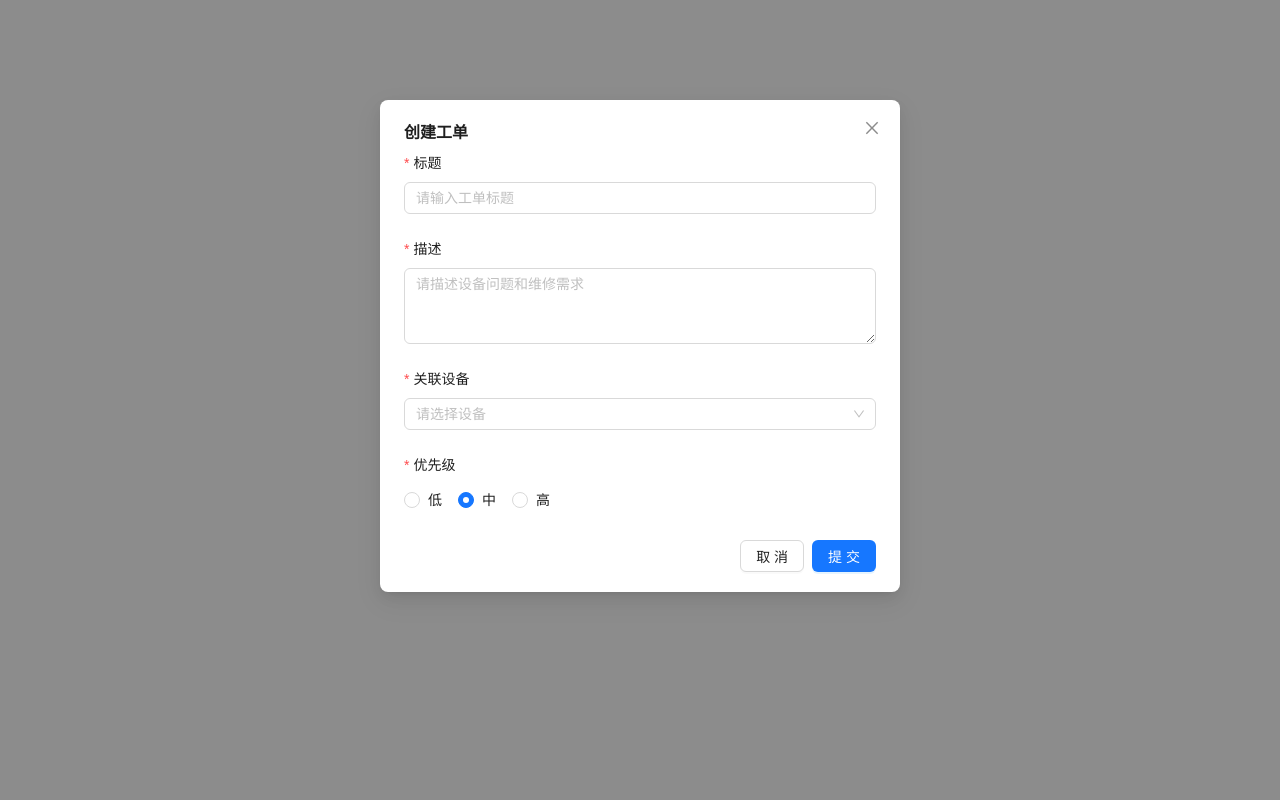
Test: CreateWorkOrderModal › shows validation errors when submitting with empty required fields
Click submit button without filling form
Click the button "提 交": click(844, 556) [812,540,876,572]
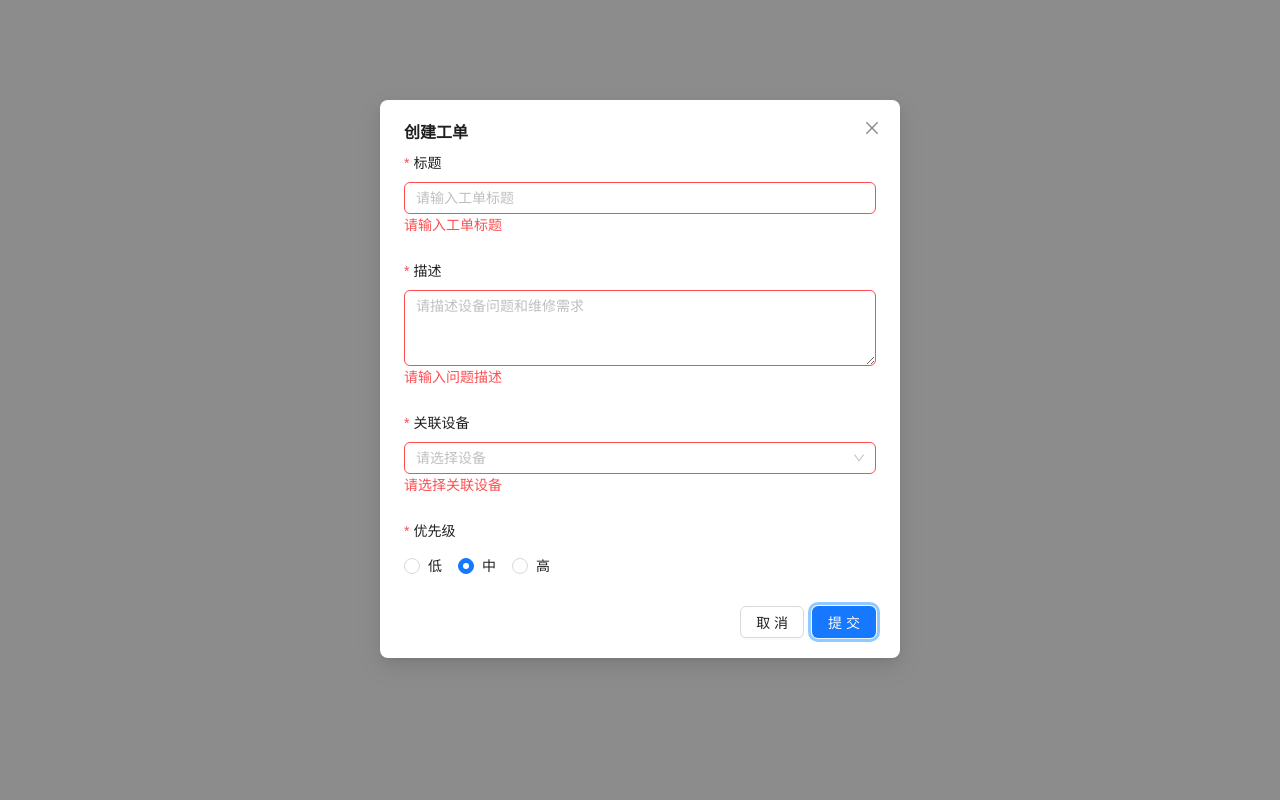
Check: the text "请输入工单标题" is shown, box [404,216,502,233]
Check: the text "请输入问题描述" is shown, box [404,368,502,385]
Check: the text "请选择关联设备" is shown, box [404,476,502,493]
